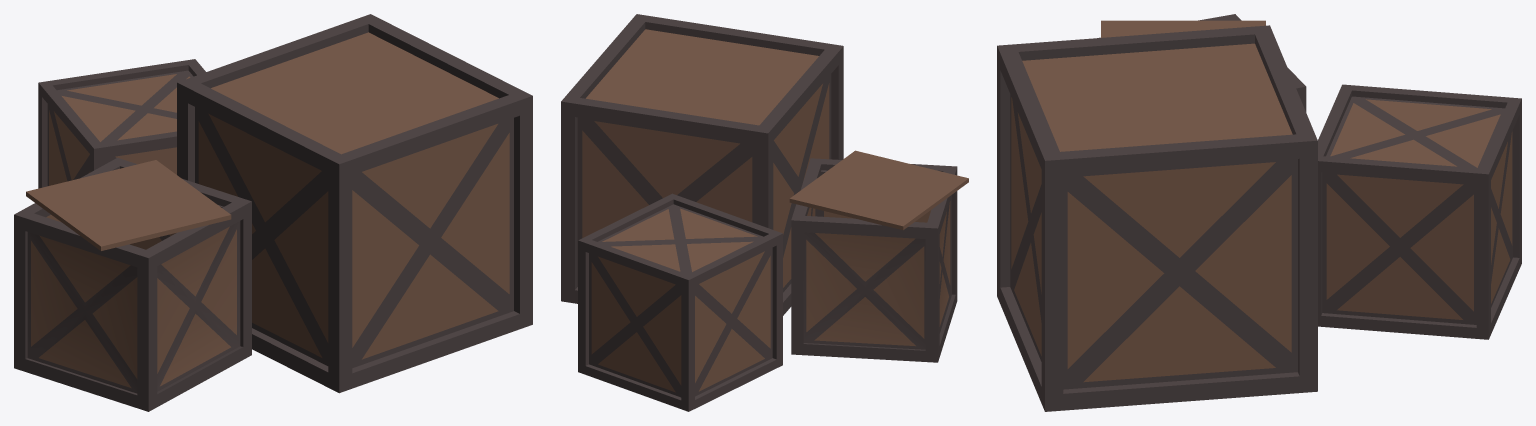
The model's file is chest.glb.
The picture shows the model from 3 angles, left to right: view 1: azimuth 30°, elevation 25°; view 2: azimuth 150°, elevation 25°; view 3: azimuth 270°, elevation 25°; orthographic projection. The views are drawn at different scales.
Visible parts, largest first — view 1: Chest; view 2: Chest; view 3: Chest.
Part boxes in pixels (box(x1,y1,x2,y2)): Chest: box(14, 14, 532, 411); Chest: box(561, 14, 968, 411); Chest: box(997, 14, 1521, 411).
Bounding box in the file's own units: 0.3177 × 0.1621 × 0.3047.
